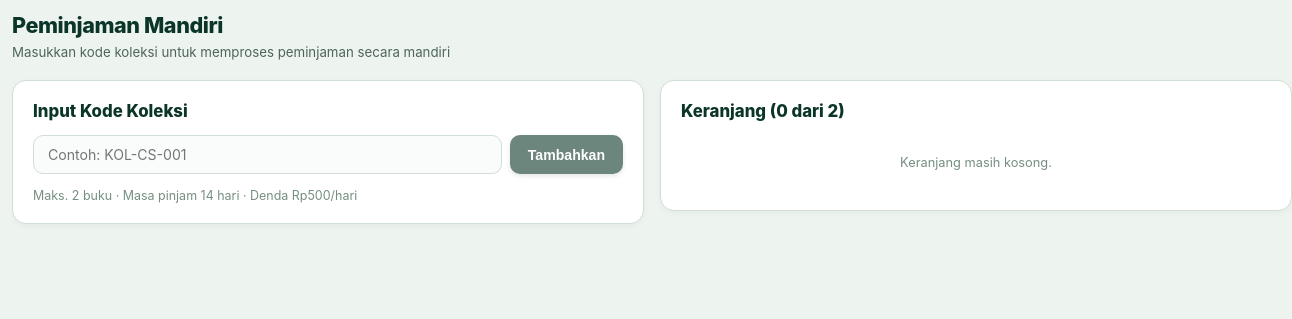
Scenario: Peminjaman Mandiri › menjaga hari tanggal jatuh tempo date-only di zona barat UTC
Expected: the text "Maks. 2 buku · Masa pinjam 14 hari · Denda Rp500/hari" is shown, [33,188,357,203]
In the field named "Kode koleksi": point(267, 155) [33,135,502,174], type "KOL-CS-001"
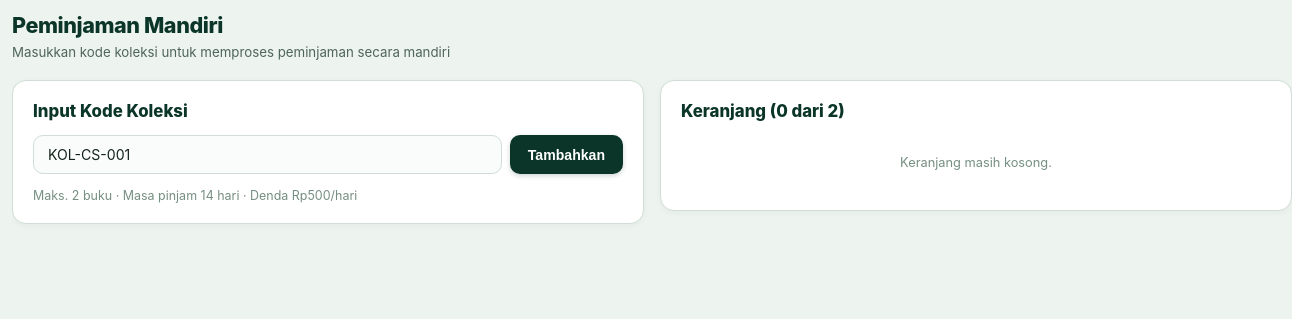
Click the button "Tambahkan": point(566, 155) [510,135,623,174]
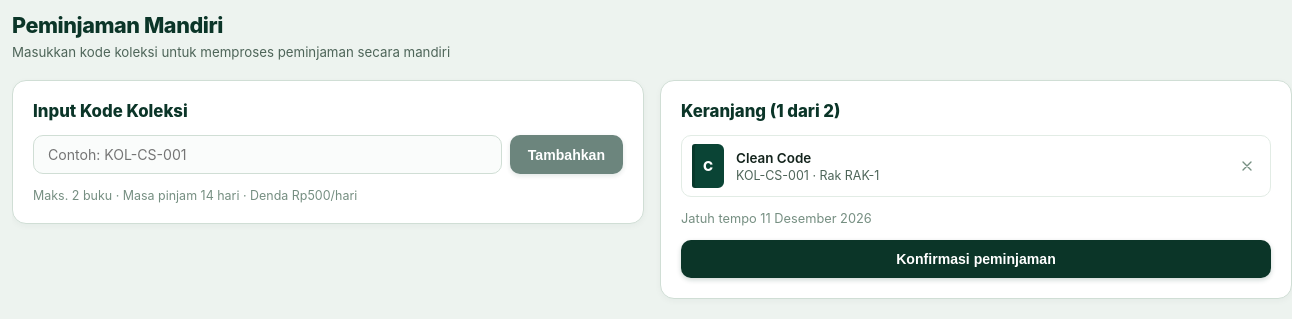
Expected: the field named "Kode koleksi" is enabled, [33,135,502,174]
Click the button "Konfirmasi peminjaman": point(976, 259) [681,240,1271,278]
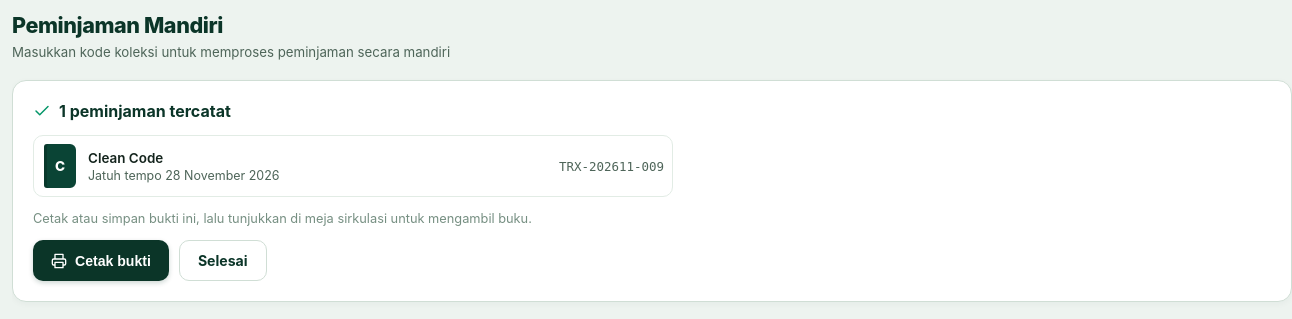
Expected: the text "Jatuh tempo 28 November 2026" is shown, [88,168,280,183]
